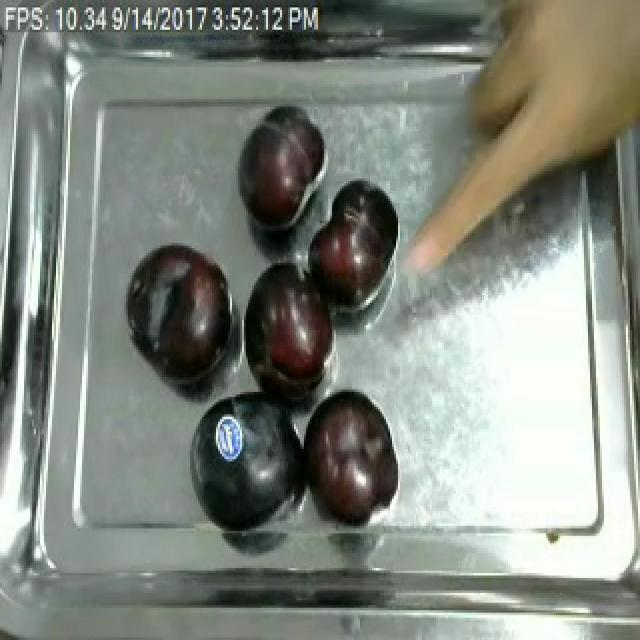Fruit: (178, 377, 314, 538), (126, 236, 236, 387), (294, 382, 404, 531), (244, 255, 344, 402), (306, 174, 404, 315), (234, 109, 330, 236)
